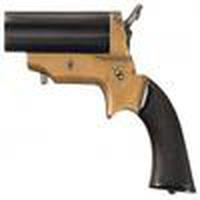gun: (2, 10, 176, 197)
